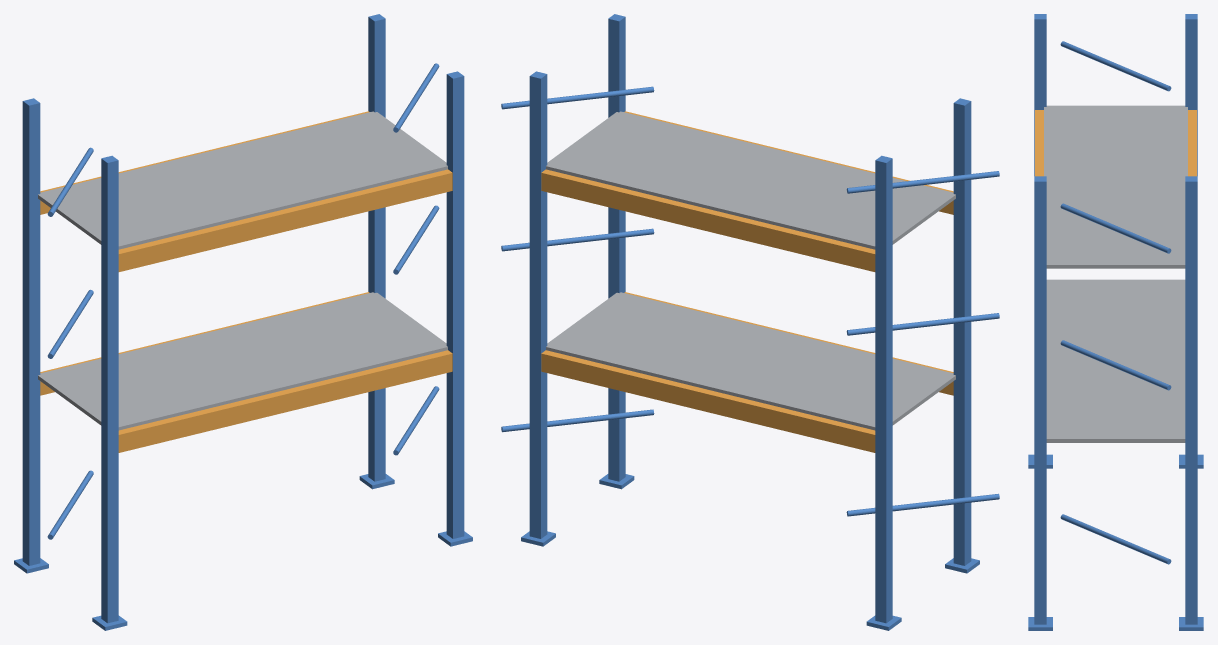
File: Warehouse_Steel_Rack.fbx
3 renders of one model, left to right at view 1: azimuth 30°, elevation 25°; view 2: azimuth 150°, elevation 25°; view 3: azimuth 270°, elevation 25°, orthographic. The views are drawn at different scales.
Visible parts, largest first — view 1: WireDeck_1.4, WireDeck_2.8, Rack_Upright_-1.4_0.55, Rack_Upright_1.4_-0.55, Rack_Upright_-1.4_-0.55, LoadBeam_-0.55_1.4, LoadBeam_-0.55_2.8, Rack_Upright_1.4_0.55, LoadBeam_0.55_1.4, LoadBeam_0.55_2.8; view 2: WireDeck_1.4, WireDeck_2.8, Rack_Upright_1.4_0.55, Rack_Upright_-1.4_-0.55, Rack_Upright_-1.4_0.55, LoadBeam_0.55_1.4, LoadBeam_0.55_2.8, Rack_Upright_1.4_-0.55, Side_Brace_-1.4_3.2, Side_Brace_-1.4_2.1, Side_Brace_-1.4_0.7, Side_Brace_1.4_0.7 (+4 smaller); view 3: WireDeck_2.8, WireDeck_1.4, Rack_Upright_1.4_-0.55, Rack_Upright_1.4_0.55, Rack_Upright_-1.4_-0.55, Rack_Upright_-1.4_0.55, Side_Brace_1.4_0.7, Side_Brace_-1.4_3.2, Side_Brace_1.4_2.1, Side_Brace_1.4_3.2, LoadBeam_-0.55_2.8, LoadBeam_0.55_2.8 (+2 smaller).
Boxes of the visible parts, left/top/right/bottom form: WireDeck_1.4: left=38, top=292, right=447, bottom=430; WireDeck_2.8: left=38, top=111, right=447, bottom=249; Rack_Upright_-1.4_0.55: left=22, top=98, right=40, bottom=565; Rack_Upright_1.4_-0.55: left=446, top=71, right=464, bottom=538; Rack_Upright_-1.4_-0.55: left=101, top=155, right=118, bottom=623; LoadBeam_-0.55_1.4: left=118, top=350, right=452, bottom=452; LoadBeam_-0.55_2.8: left=118, top=169, right=452, bottom=271; Rack_Upright_1.4_0.55: left=368, top=14, right=385, bottom=481; LoadBeam_0.55_1.4: left=40, top=292, right=369, bottom=395; LoadBeam_0.55_2.8: left=40, top=111, right=369, bottom=214; WireDeck_1.4: left=546, top=292, right=955, bottom=430; WireDeck_2.8: left=546, top=111, right=955, bottom=249; Rack_Upright_1.4_0.55: left=529, top=71, right=547, bottom=538; Rack_Upright_-1.4_-0.55: left=953, top=98, right=971, bottom=565; Rack_Upright_-1.4_0.55: left=875, top=155, right=892, bottom=623; LoadBeam_0.55_1.4: left=541, top=350, right=875, bottom=452; LoadBeam_0.55_2.8: left=541, top=169, right=875, bottom=271; Rack_Upright_1.4_-0.55: left=608, top=14, right=625, bottom=481; Side_Brace_-1.4_3.2: left=846, top=171, right=999, bottom=193; Side_Brace_-1.4_2.1: left=846, top=313, right=999, bottom=335; Side_Brace_-1.4_0.7: left=846, top=493, right=999, bottom=516; Side_Brace_1.4_0.7: left=501, top=409, right=654, bottom=432; WireDeck_2.8: left=1044, top=105, right=1187, bottom=268; WireDeck_1.4: left=1046, top=279, right=1185, bottom=442; Rack_Upright_1.4_-0.55: left=1034, top=176, right=1046, bottom=624; Rack_Upright_1.4_0.55: left=1185, top=176, right=1197, bottom=624; Rack_Upright_-1.4_-0.55: left=1034, top=14, right=1046, bottom=176; Rack_Upright_-1.4_0.55: left=1185, top=14, right=1197, bottom=176; Side_Brace_1.4_0.7: left=1060, top=514, right=1171, bottom=564; Side_Brace_-1.4_3.2: left=1060, top=41, right=1171, bottom=91; Side_Brace_1.4_2.1: left=1060, top=340, right=1171, bottom=390; Side_Brace_1.4_3.2: left=1060, top=203, right=1171, bottom=253; LoadBeam_-0.55_2.8: left=1035, top=110, right=1043, bottom=176; LoadBeam_0.55_2.8: left=1188, top=110, right=1196, bottom=176.
Size of the model in its own units: 3.61 by 3.6 by 1.28.
